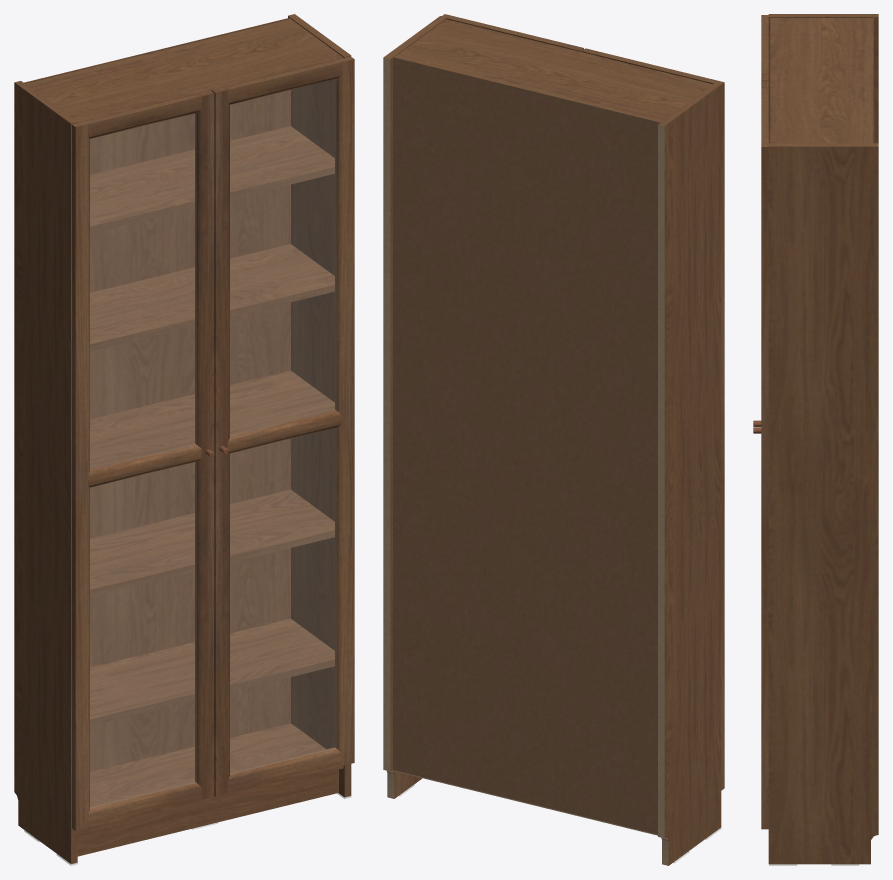
3 renders of one model, left to right at view 1: azimuth 30°, elevation 25°; view 2: azimuth 150°, elevation 25°; view 3: azimuth 270°, elevation 25°, orthographic. The views are drawn at different scales.
Visible parts, largest first — view 1: Mesh_0, Mesh_2; view 2: Mesh_0; view 3: Mesh_0.
Boxes of the visible parts, x1,y1,x2,y2 form: Mesh_0: (14,14,354,863); Mesh_2: (90,79,335,807); Mesh_0: (383,14,724,865); Mesh_0: (753,14,878,864).
Size of the model in its own units: 0.8003 by 2.02 by 0.3197.
Materials: 3 (1 with a texture image).
